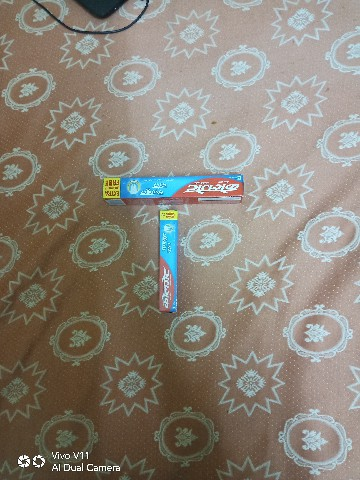colgatetoothpaste big: (97, 167, 252, 207)
colgatetoothpaste small: (151, 202, 189, 323)
